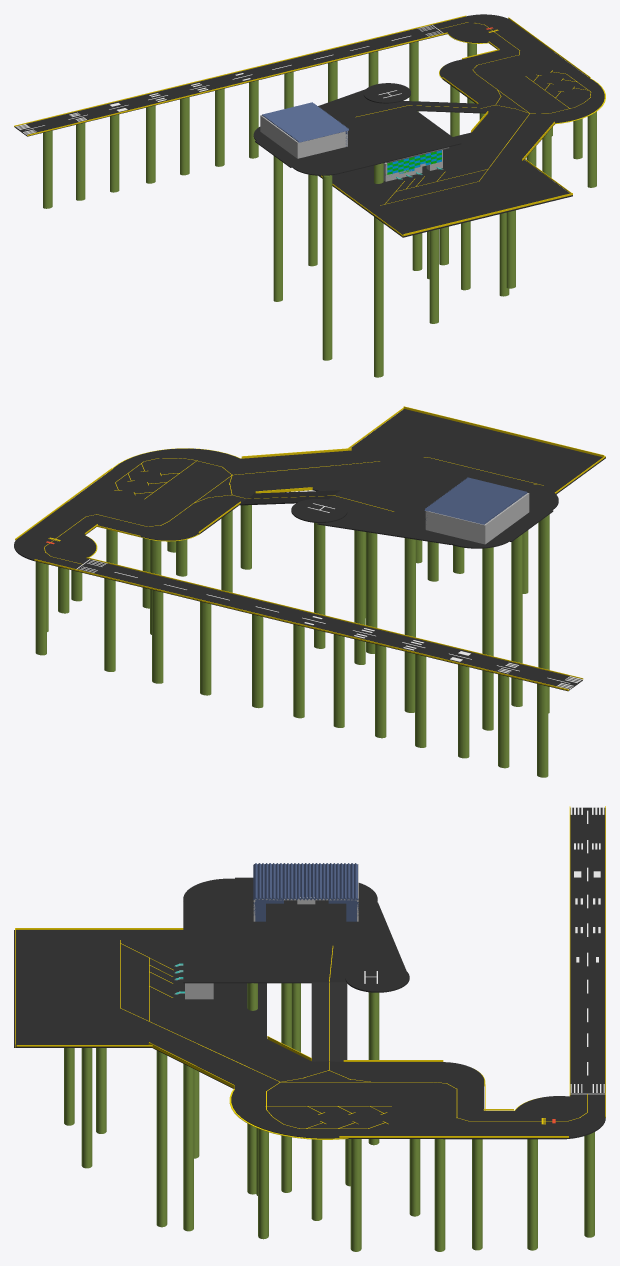
File: tav5.glb
3 views of the same model, one above another, from view 1: azimuth 30°, elevation 25°; view 2: azimuth 150°, elevation 25°; view 3: azimuth 270°, elevation 25° (orthographic). The views are drawn at different scales.
Visible parts, largest first — view 1: mesh (×13), cylinder (×23), group; view 2: mesh (×14), cylinder (×31), group; view 3: mesh (×9), cylinder (×23), group.
Part boxes in pixels (bbox=[...]): mesh (×13): bbox=[14, 15, 595, 237]; cylinder (×23): bbox=[43, 14, 604, 377]; group: bbox=[458, 17, 590, 82]; mesh (×14): bbox=[32, 406, 605, 691]; cylinder (×31): bbox=[14, 448, 558, 777]; group: bbox=[15, 468, 182, 546]; mesh (×9): bbox=[14, 807, 605, 1138]; cylinder (×23): bbox=[64, 878, 605, 1251]; group: bbox=[339, 1081, 568, 1139].
Size of what is drawn, in the model's own units: 44.05 by 20.2 by 33.22.
Materials: 22 (21 with a texture image).
